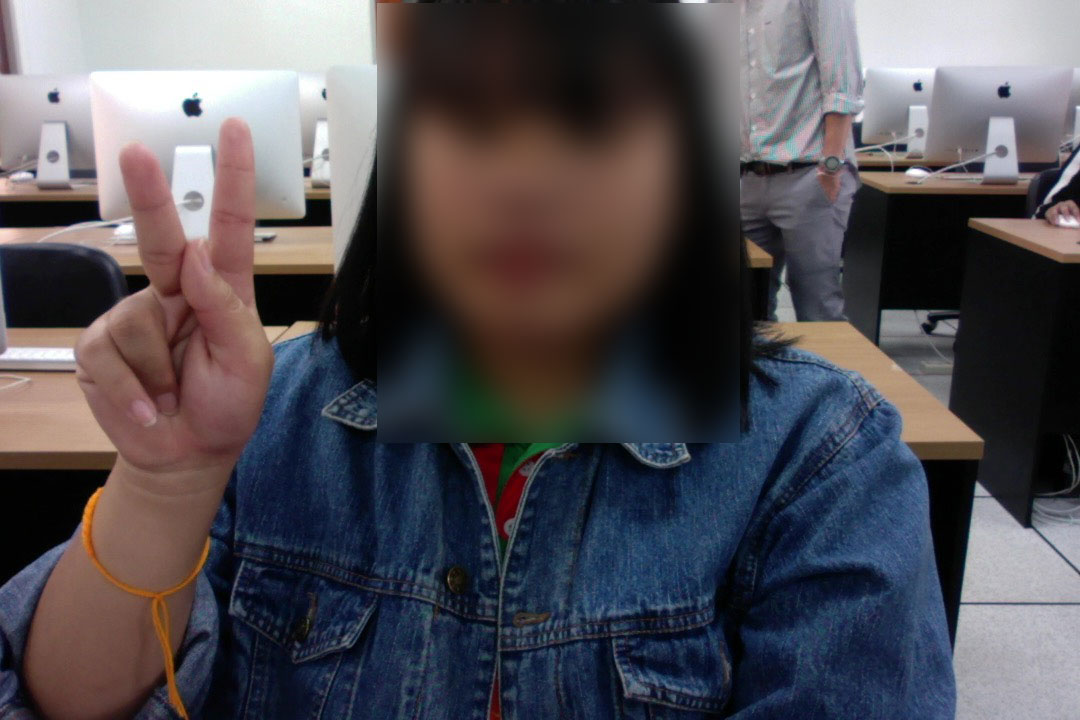ko: (68, 111, 287, 497)
